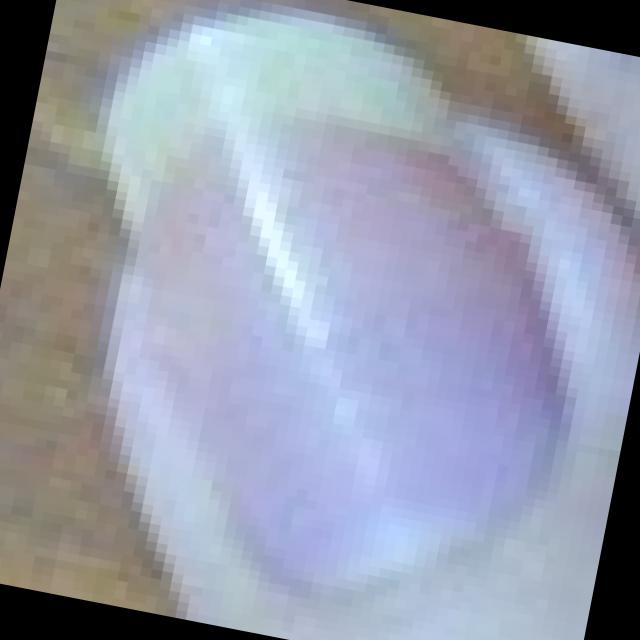Nail: (104, 14, 572, 596)
